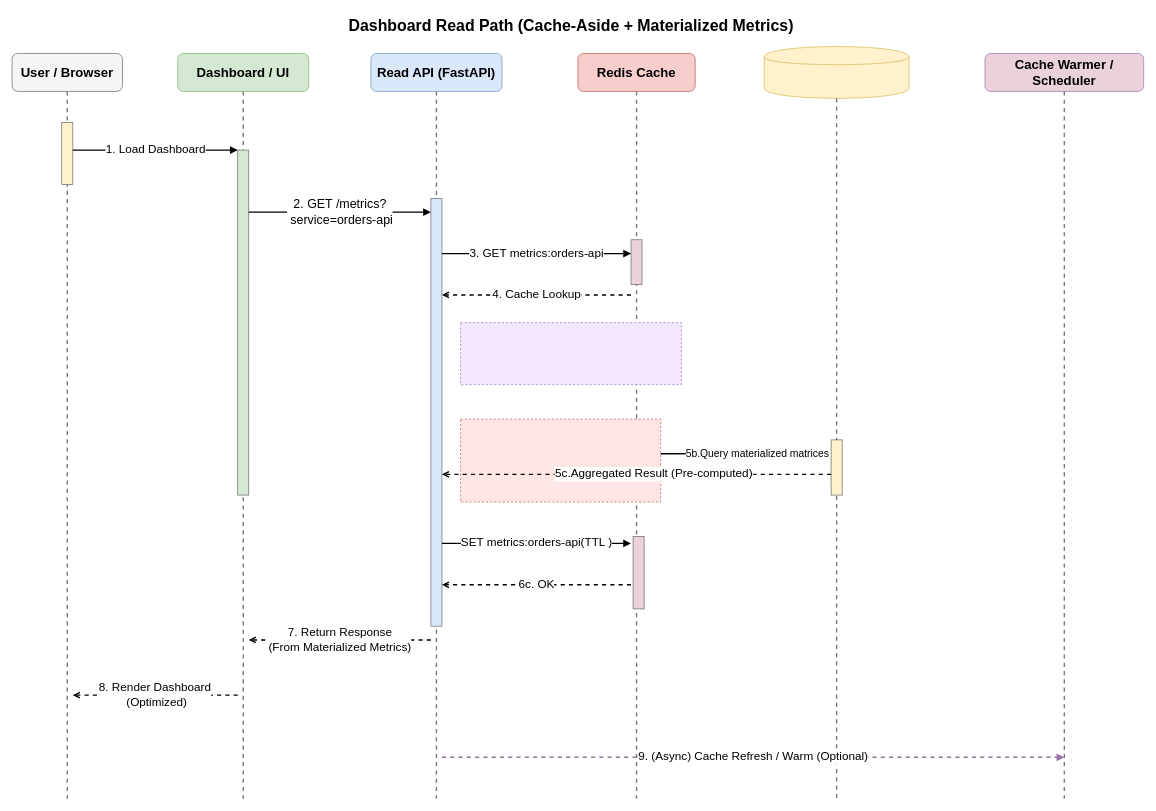
Some shapes in this 1156 by 811 pixel diagram are drawn without their labels. The centre of each missing label's shape, as x and y in pixels:
4a. Hit → Return Cached Data: the point at 570,353
4b.Cache MISS: the point at 560,460
Materialized Metrics (PostgreSQL): the point at 836,72
